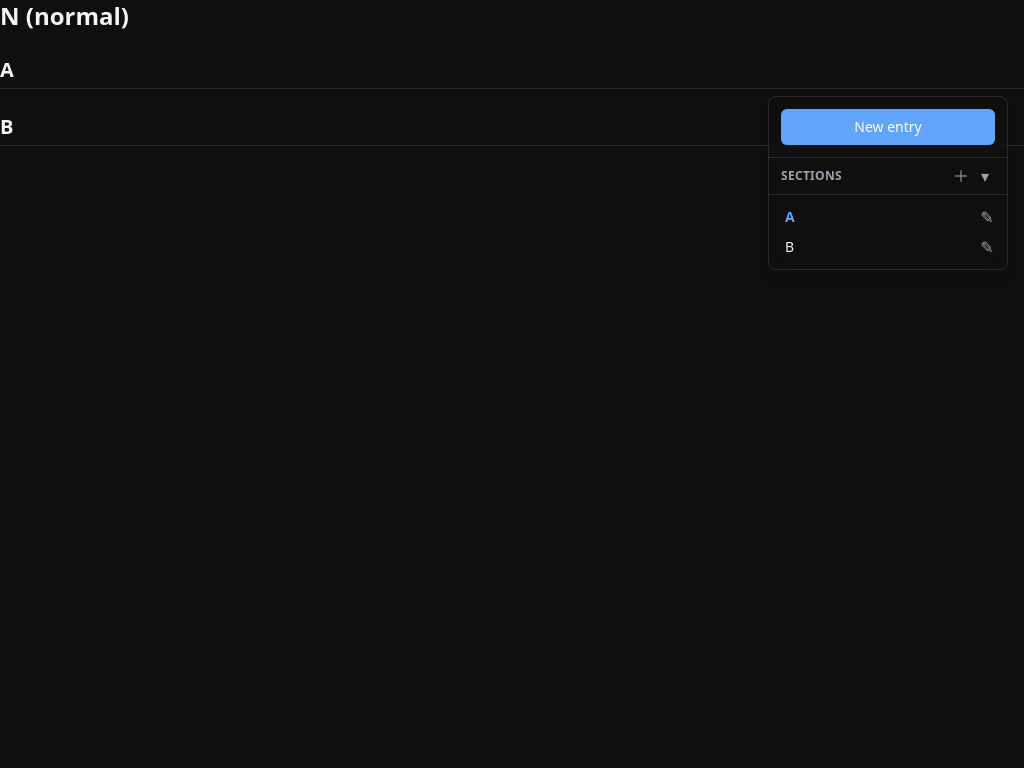
it: CategoryView entry creation › offers a section picker when creating an entry in a writing category with sub-sections
The width and height of the screenshot is (1024, 768).
// Open the entry editor (the SectionNavigator + mobile button both expose it).
Step 1. Click the button "New entry" → (888, 127), box top-left (781, 109), bottom-right (995, 145)
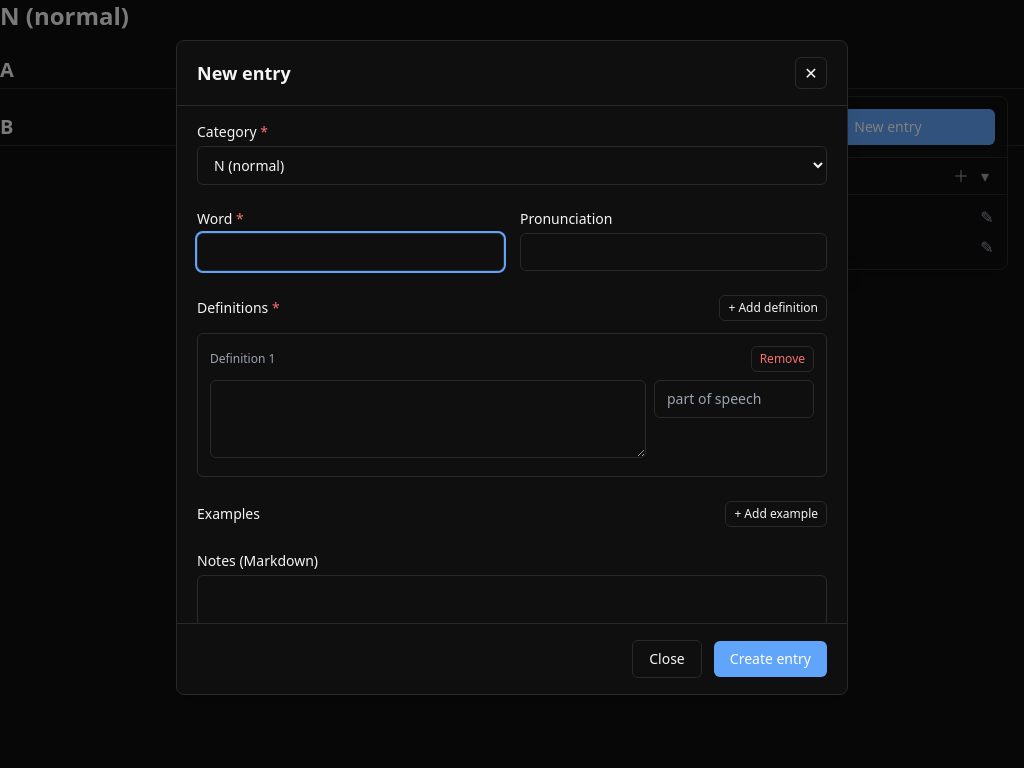
Now the dropdown labelled "Category *" is shown, box top-left (197, 146), bottom-right (827, 185)
